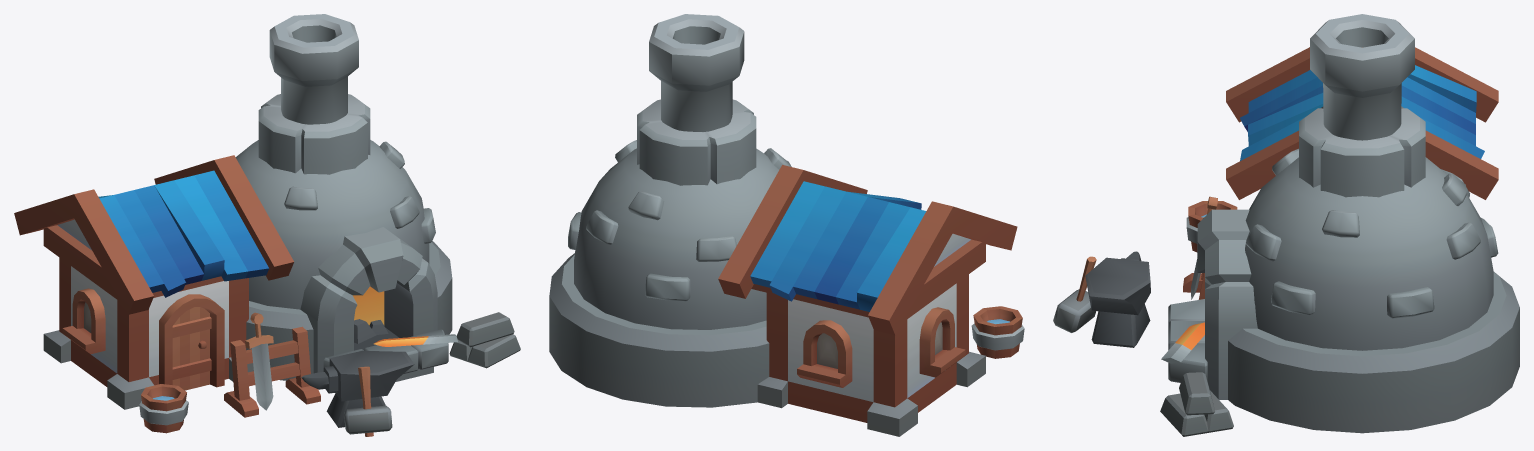
File: blacksmith_blue.glb
3 renders of one model, left to right at view 1: azimuth 30°, elevation 25°; view 2: azimuth 150°, elevation 25°; view 3: azimuth 270°, elevation 25°, orthographic. The views are drawn at different scales.
Parts seen in each view (by area): view 1: building_blacksmith_blue; view 2: building_blacksmith_blue; view 3: building_blacksmith_blue.
Boxes of the visible parts, <box> form: building_blacksmith_blue: <box>14,14,520,436</box>; building_blacksmith_blue: <box>549,14,1024,436</box>; building_blacksmith_blue: <box>1053,14,1519,436</box>.
Size of the model in its own units: 1.29 by 0.9851 by 1.25.
Materials: 1 (1 with a texture image).
